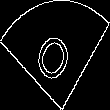O_SW: (31, 21, 79, 89)
